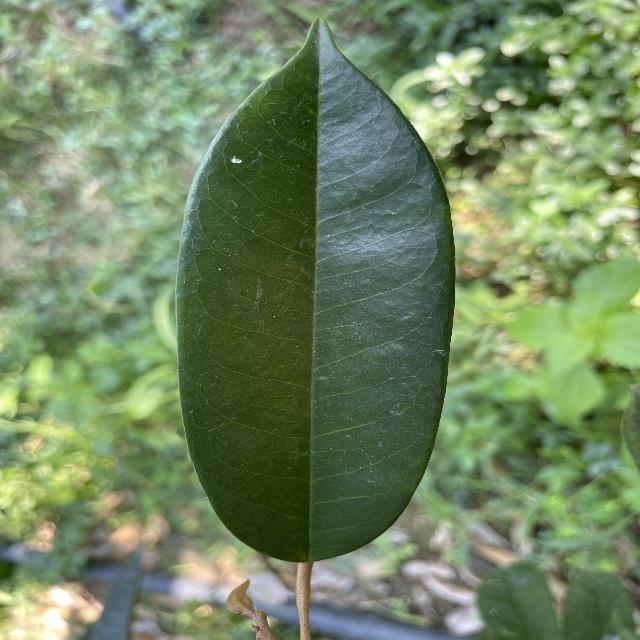No Disease: (169, 15, 465, 573)
